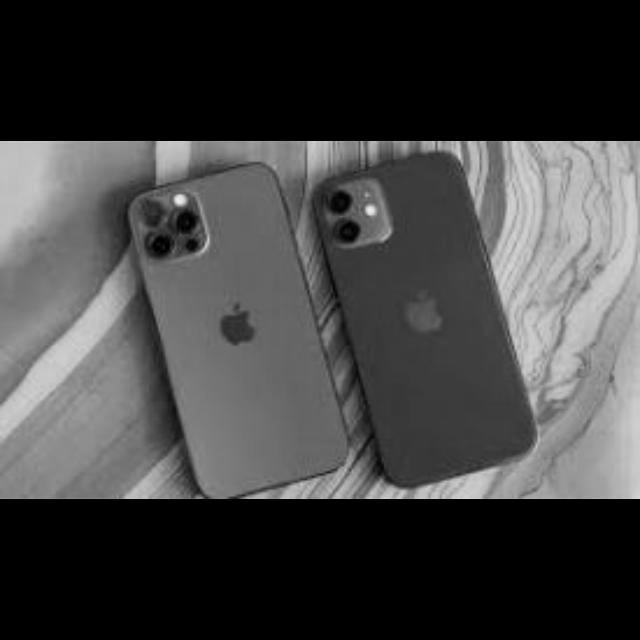fake: (6, 134, 618, 496)
